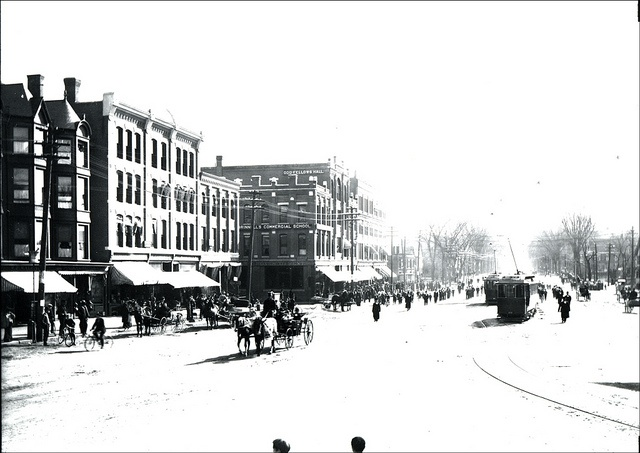non-vehicle: (84, 329, 113, 351), (57, 328, 74, 346)
